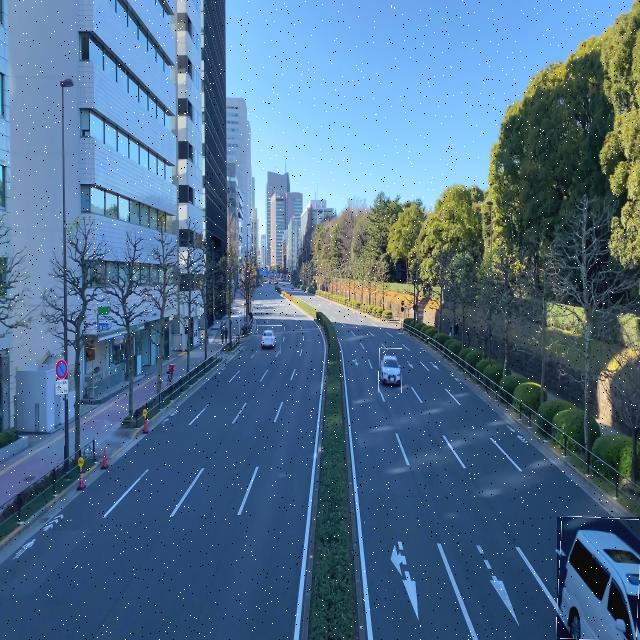Car: (557, 517, 640, 640), (379, 348, 402, 393), (257, 325, 281, 354)
